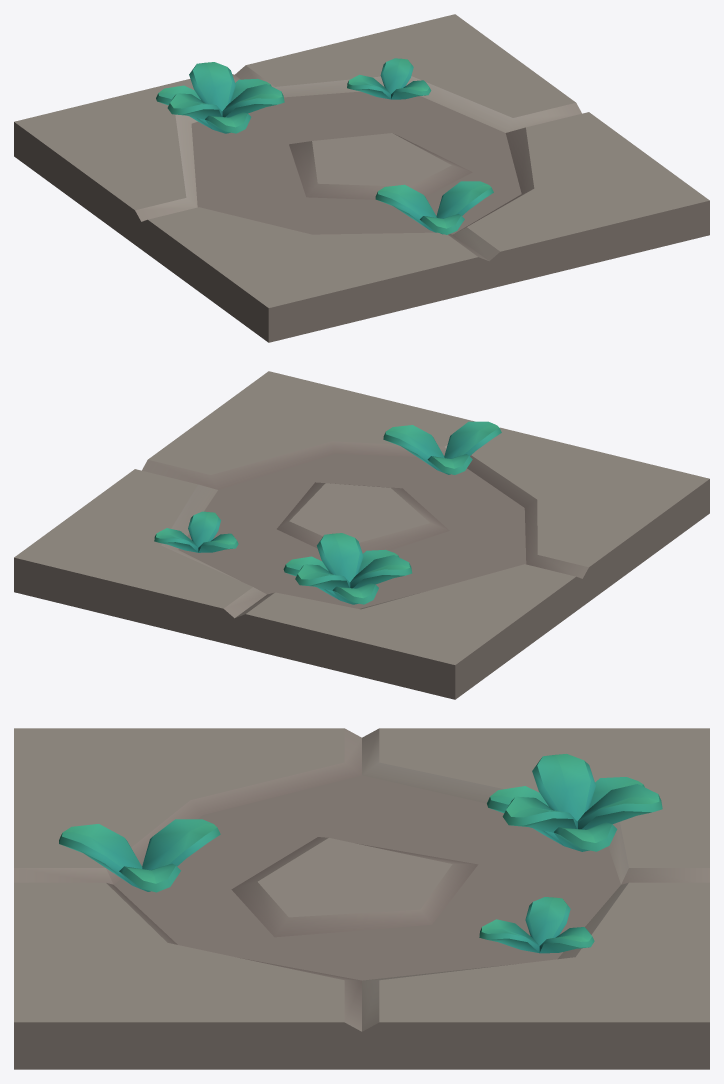
File: floor_weeds.fbx
3 views of the same model, one above another, from view 1: azimuth 30°, elevation 25°; view 2: azimuth 150°, elevation 25°; view 3: azimuth 270°, elevation 25° (orthographic). The views are drawn at different scales.
Parts seen in each view (by area): view 1: floor_tile_small_weeds_A; view 2: floor_tile_small_weeds_A; view 3: floor_tile_small_weeds_A.
Boxes of the visible parts, left/top/right/bottom form: floor_tile_small_weeds_A: left=14, top=14, right=709, bottom=342; floor_tile_small_weeds_A: left=14, top=371, right=709, bottom=699; floor_tile_small_weeds_A: left=14, top=728, right=709, bottom=1069.
Bounding box in the file's own units: 200 × 29.55 × 200.
1 material, 1 textured.
